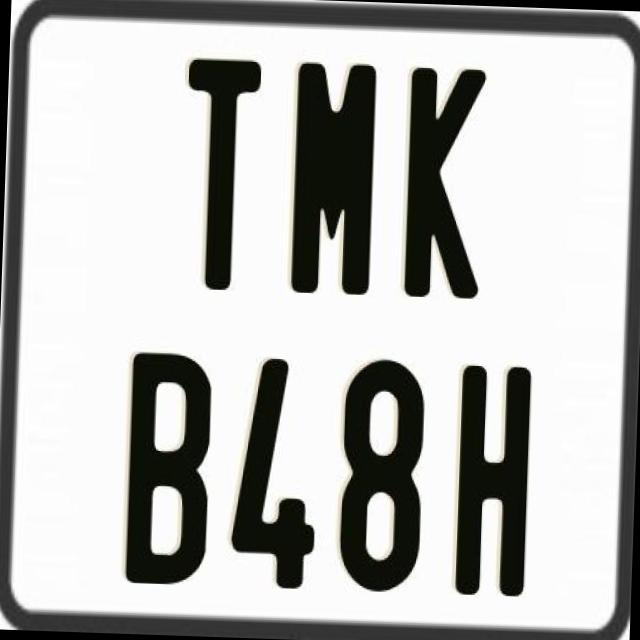4: (229, 354, 323, 587)
8: (333, 354, 424, 594)
B: (125, 351, 213, 594)
H: (450, 363, 530, 604)
K: (404, 62, 486, 304)
M: (290, 58, 381, 298)
T: (178, 57, 261, 290)
